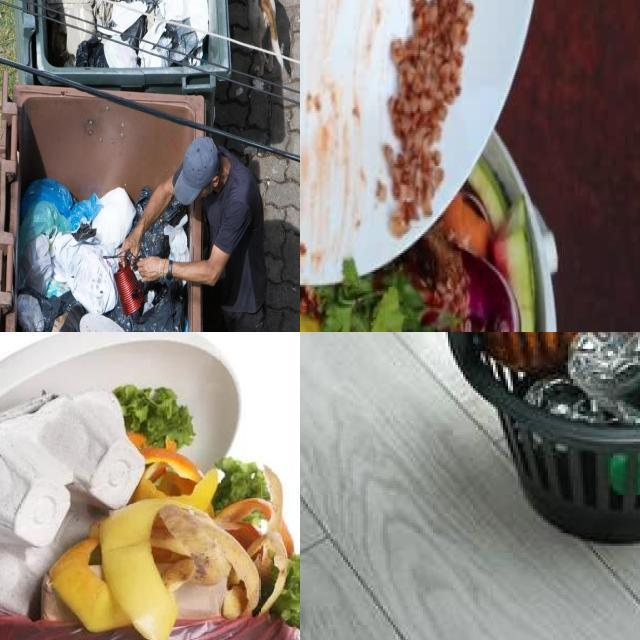Garbage: (0, 332, 300, 640), (300, 136, 544, 332), (17, 179, 186, 332), (474, 332, 640, 426), (46, 0, 209, 67), (138, 202, 189, 262)
Plastic: (46, 0, 95, 63), (114, 262, 144, 315), (120, 14, 147, 50), (75, 39, 109, 67)
Plastic_Bag: (50, 234, 117, 314), (21, 179, 103, 230), (109, 279, 186, 332), (19, 202, 72, 261), (93, 188, 136, 255), (139, 200, 186, 258), (20, 287, 79, 332), (18, 234, 53, 294), (163, 215, 190, 262), (17, 294, 45, 332), (80, 313, 125, 332), (133, 186, 152, 227)
contaminated_waste: (0, 389, 144, 615), (472, 332, 640, 424)
